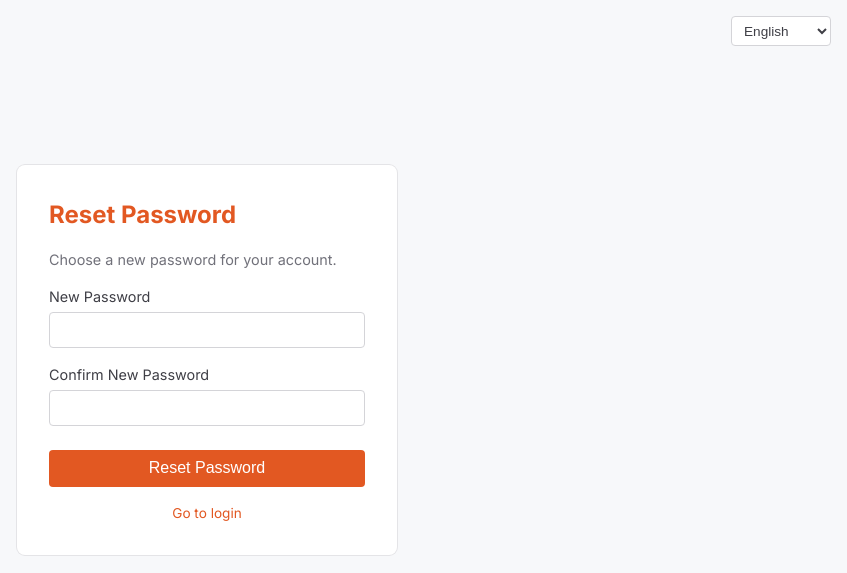
ResetPassword page › submits the new password and shows a success message + login link
Type "newpassword123" into the password field labelled "New Password" at (207, 330), box [49,312,365,348]
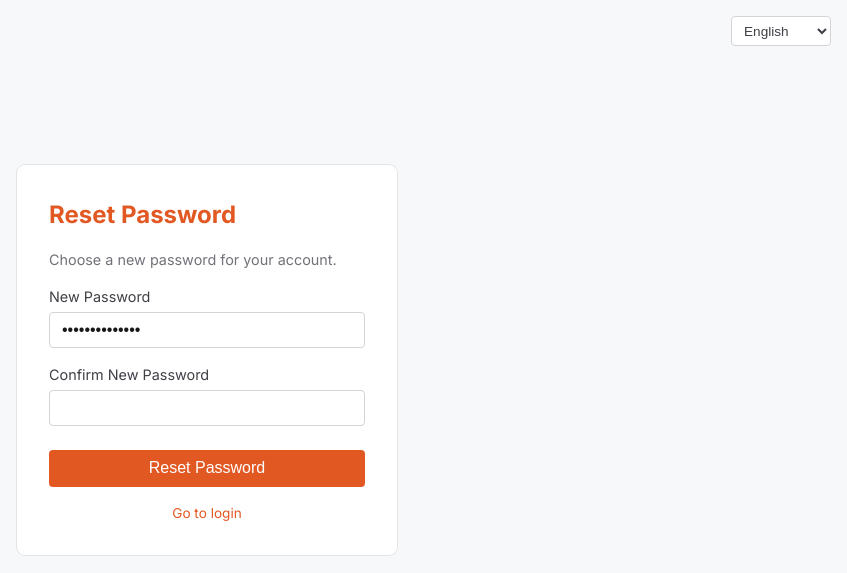
Type "newpassword123" into the password field labelled "Confirm New Password" at (207, 408), box [49,390,365,426]
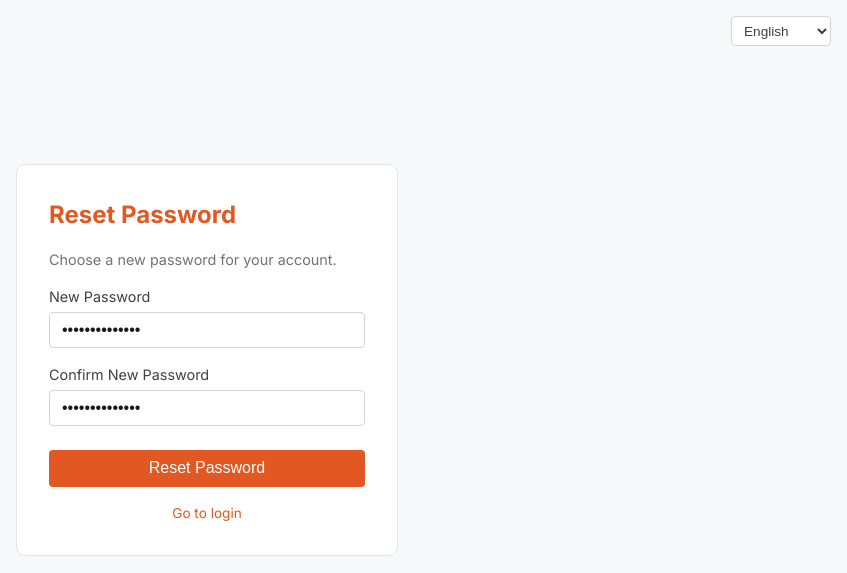
Click the button "Reset Password" at (207, 468), box [49,450,365,487]
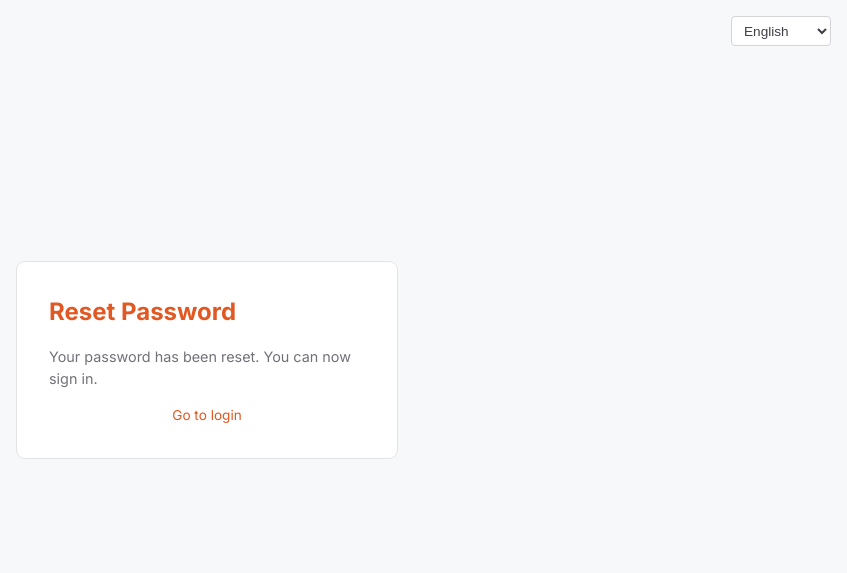
Result: the text "Your password has been reset. You can now sign in." is shown at [49,346,365,389]
